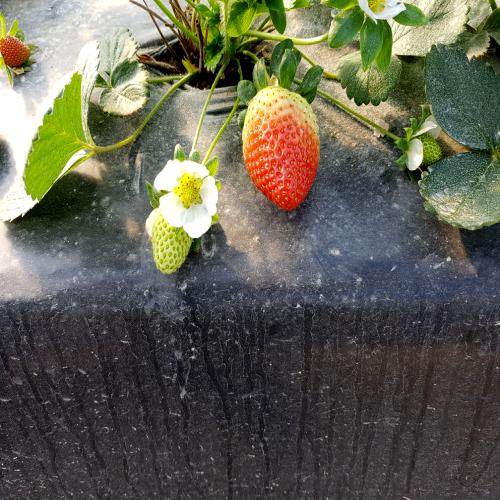partially-ripe: (236, 84, 329, 218)
